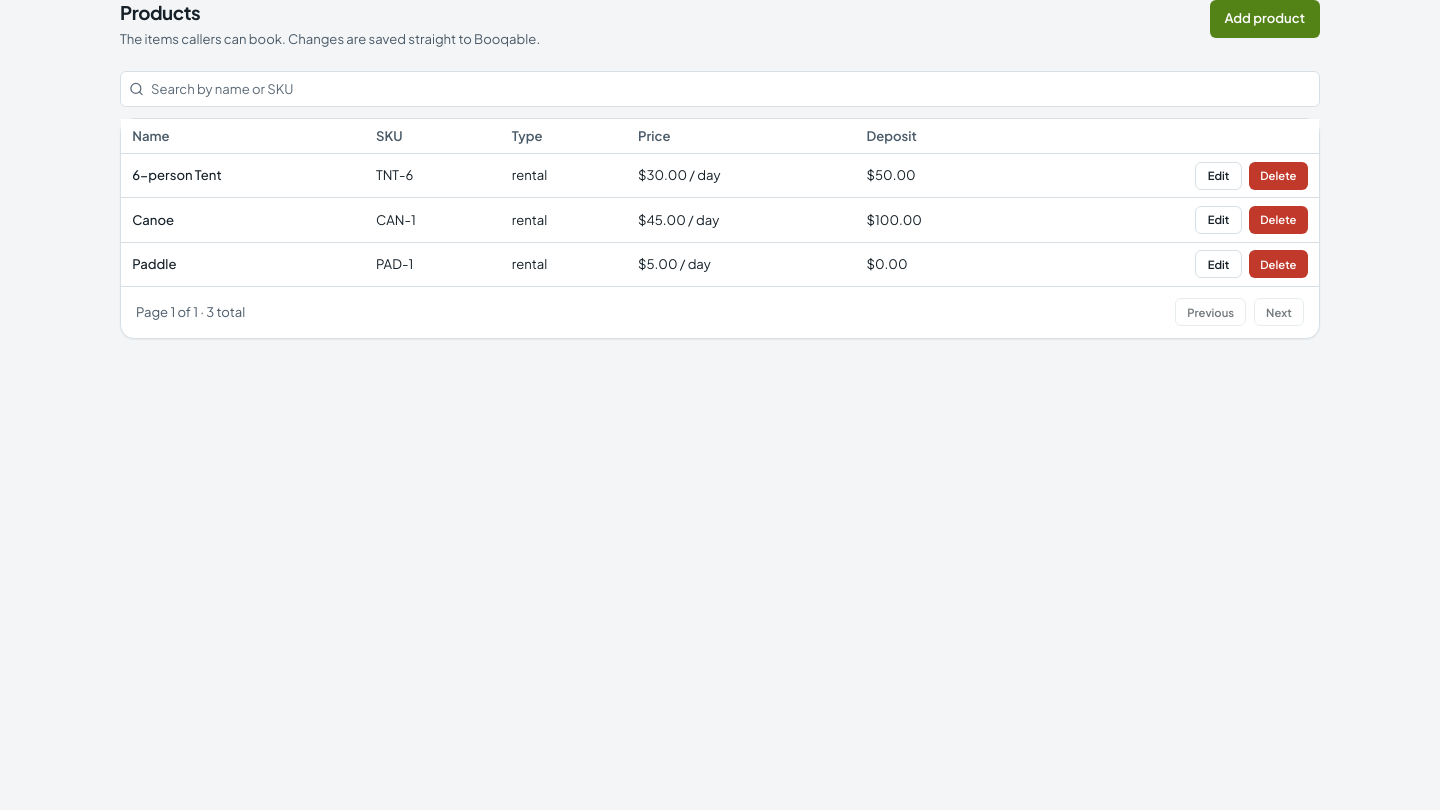
Test case: ProductsPage › adds a product
expect the text "Canoe" is shown: met, box x1=132 y1=210 x2=174 y2=228
Click the button "Add product" at (1265, 19), box x1=1210 y1=0 x2=1320 y2=38
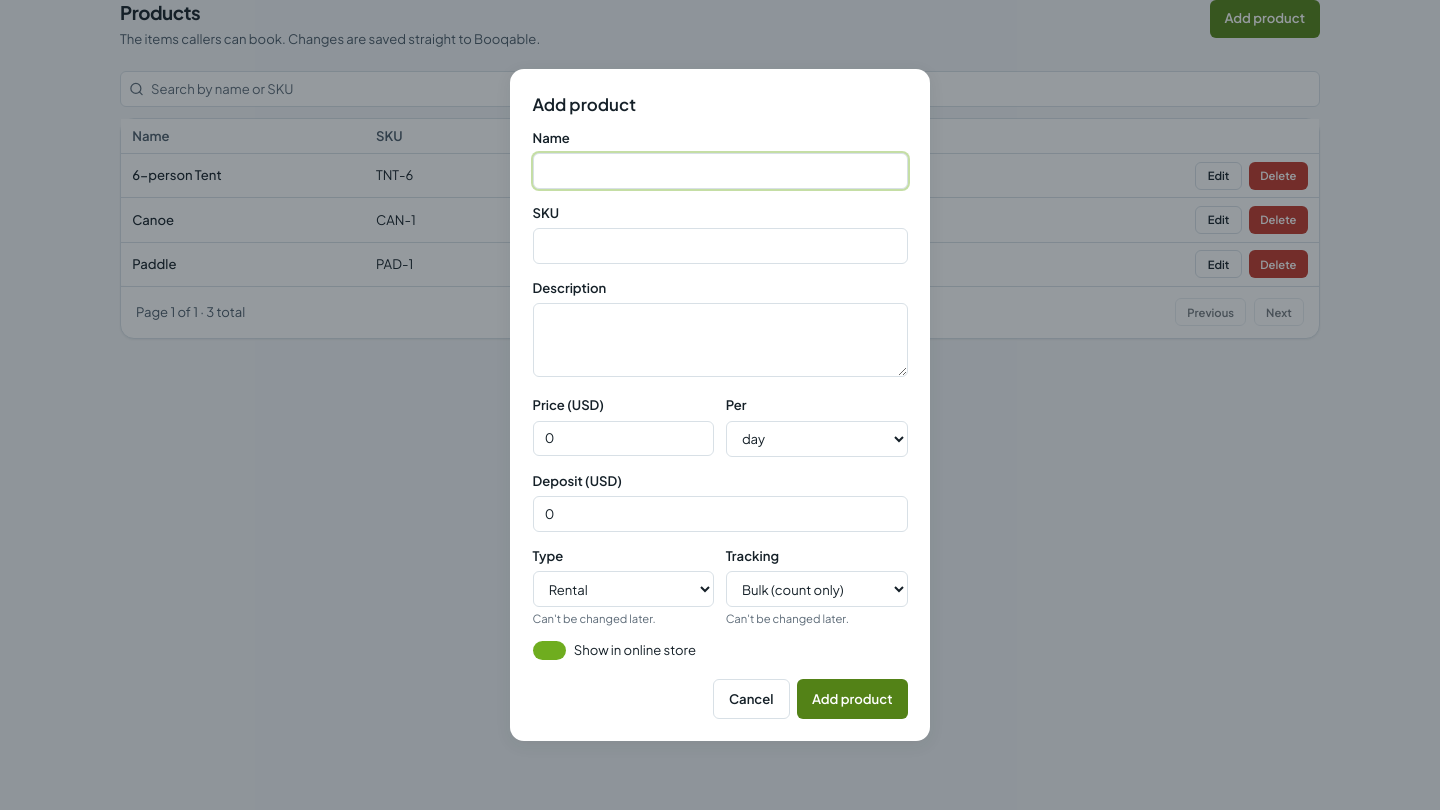
Type "Kayak" into the field labelled "Name" at (720, 171), box x1=532 y1=153 x2=908 y2=189
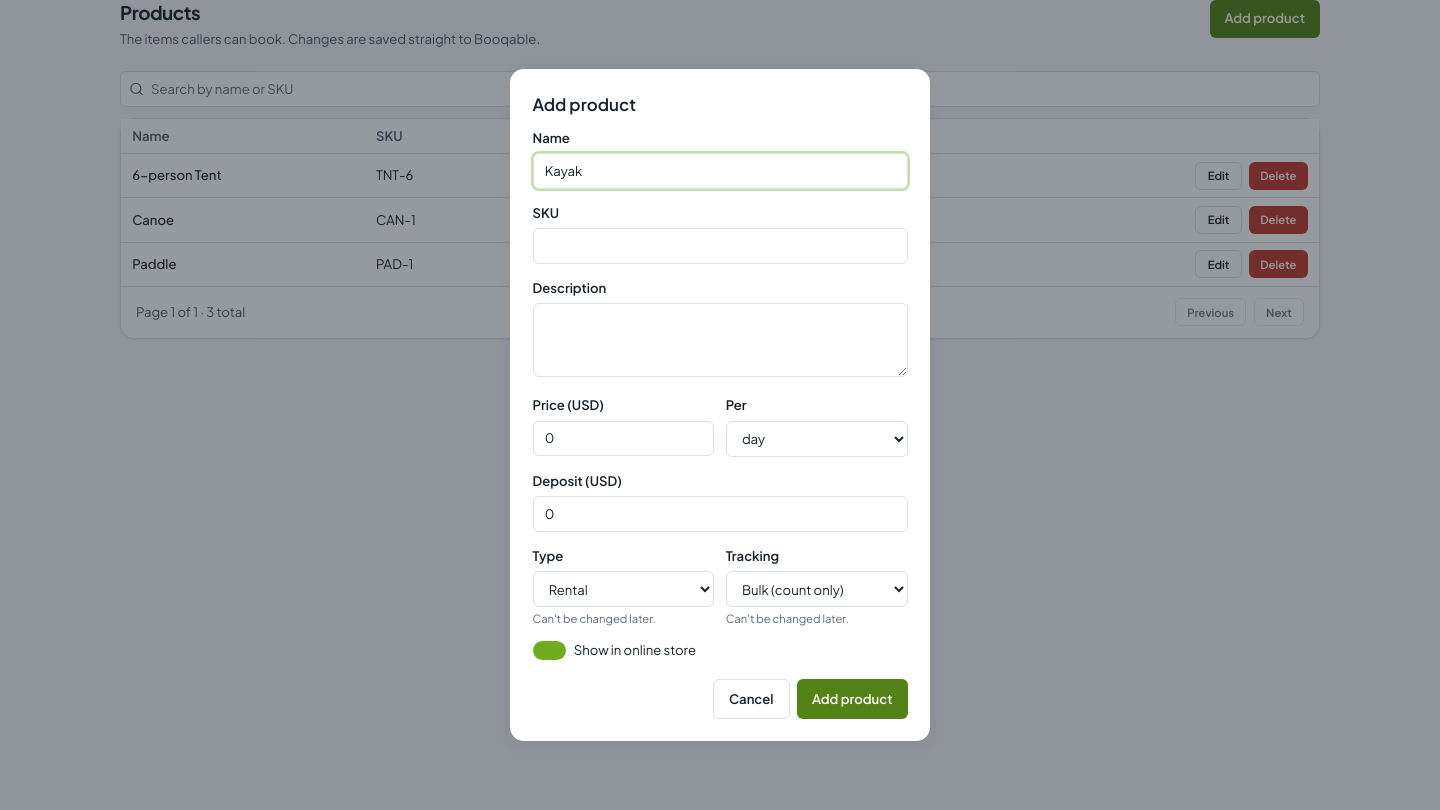
Replace the text in the number field labelled "Price (USD)" with "30" at (623, 438), box x1=532 y1=421 x2=714 y2=456
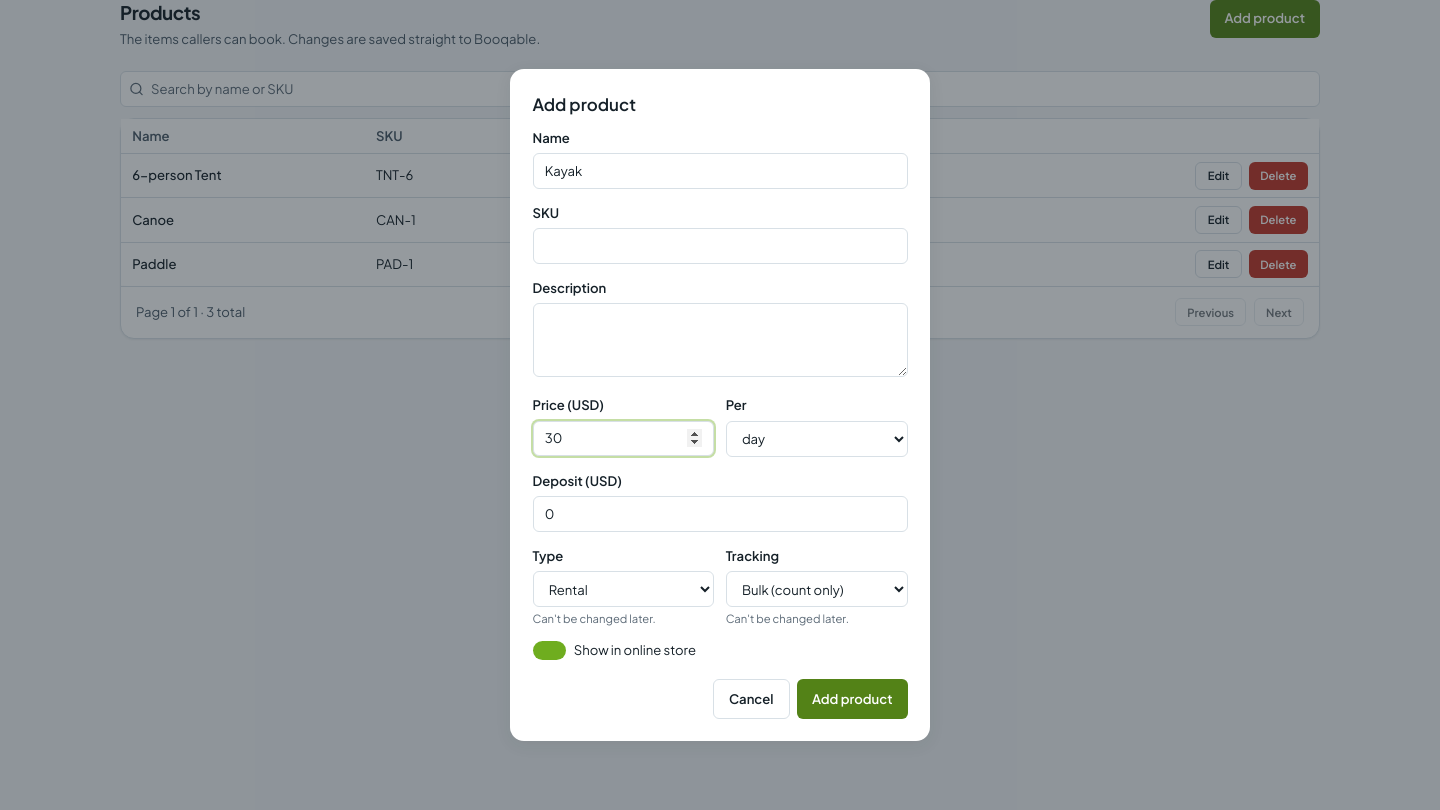
Click the button "Add product" at (852, 699), box x1=797 y1=679 x2=908 y2=719
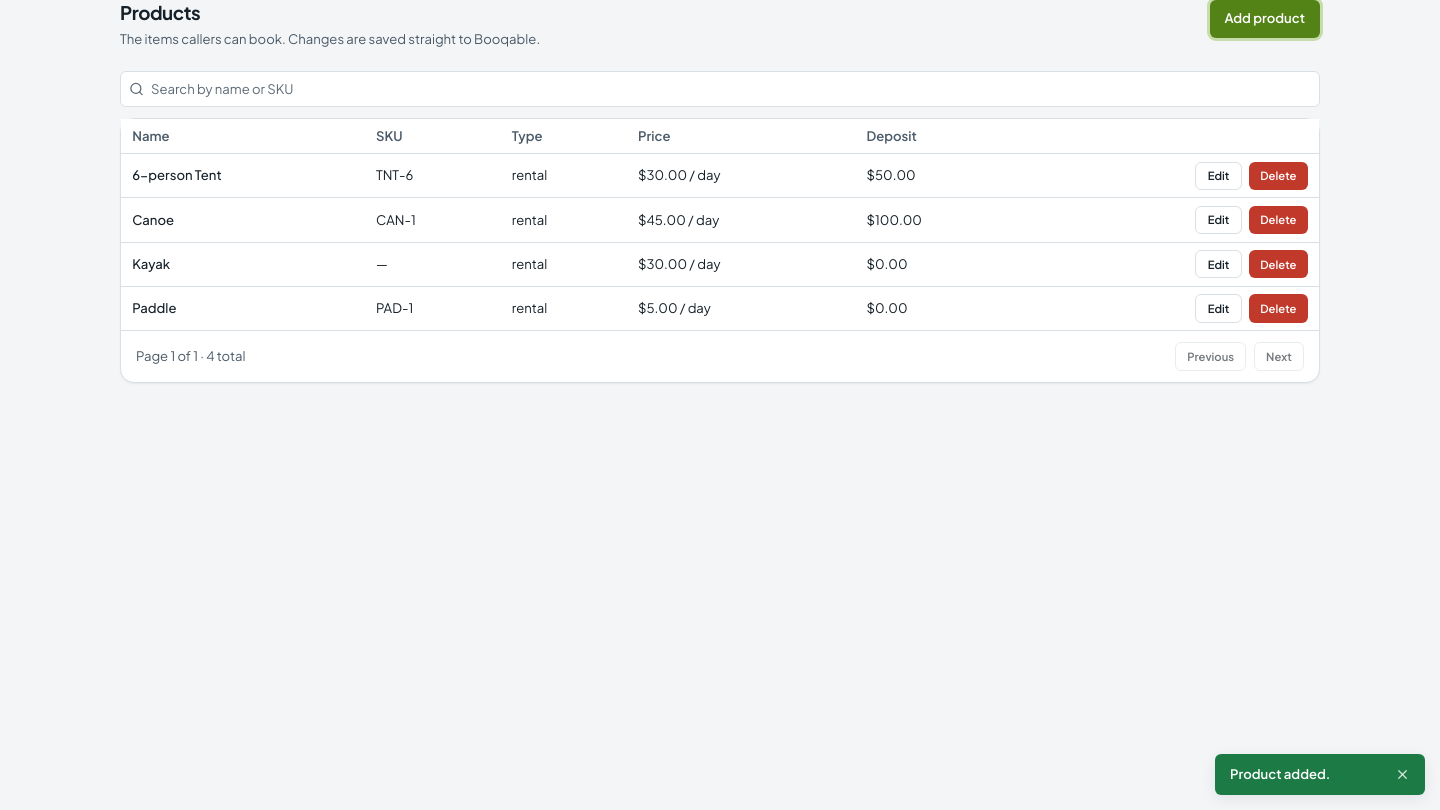
expect the text "Kayak" is shown: met, box x1=132 y1=255 x2=170 y2=272
expect the dialog is gone: met
